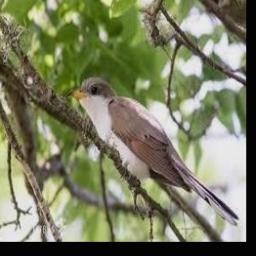Cuckoo: (66, 77, 238, 225)
